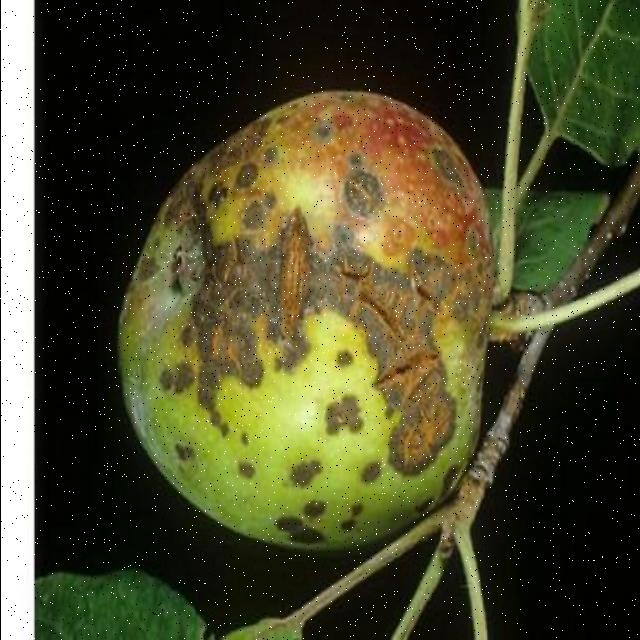SCAB: (94, 92, 536, 588)
